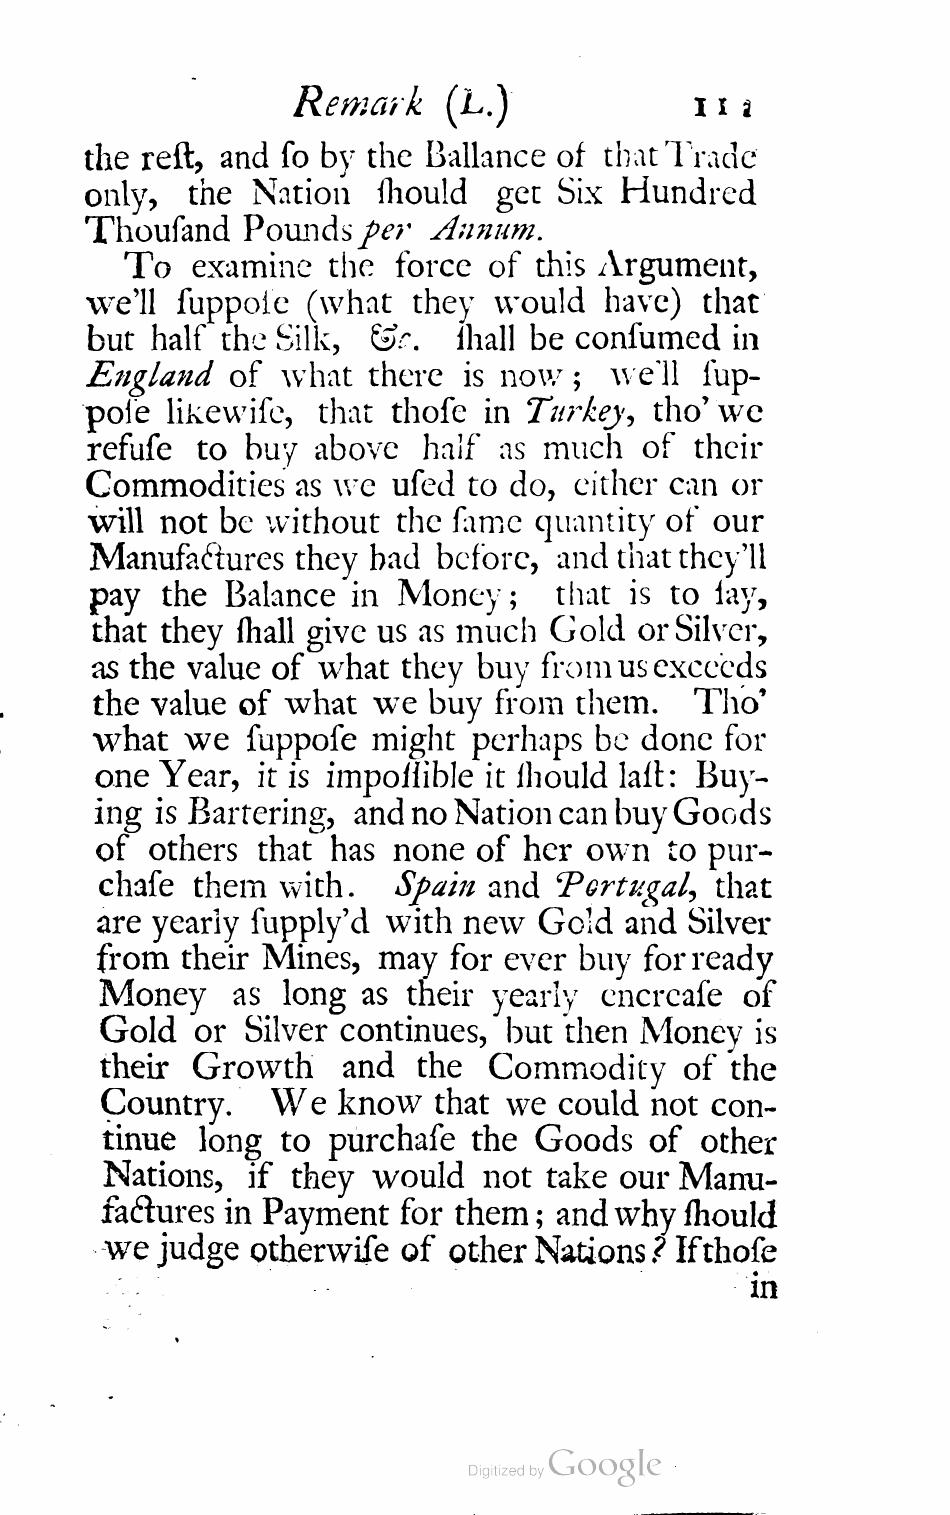bottom_p: (80, 136, 761, 250)
catchword: (746, 1271, 780, 1302)
header: (290, 80, 512, 131)
page_num: (692, 94, 755, 123)
top_p: (80, 249, 781, 1271)
